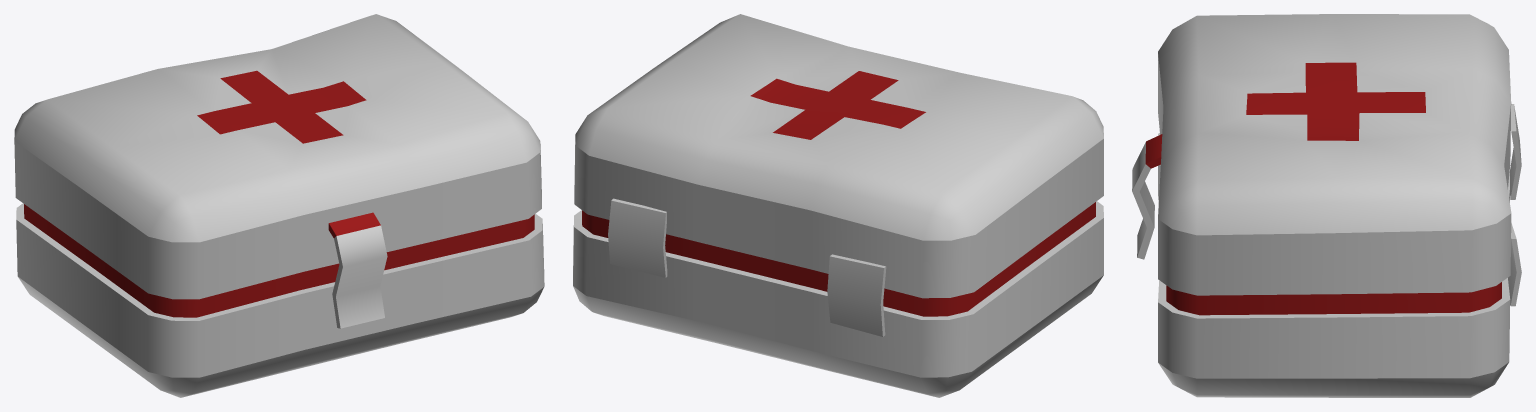
Rendered from First Aid.FBX.
3 views of the same model, side by side, from view 1: azimuth 30°, elevation 25°; view 2: azimuth 150°, elevation 25°; view 3: azimuth 270°, elevation 25° (orthographic). The views are drawn at different scales.
Parts seen in each view (by area): view 1: Box001; view 2: Box001; view 3: Box001.
Part boxes in pixels (left/top/right/bottom): Box001: left=14, top=14, right=544, bottom=397; Box001: left=573, top=14, right=1103, bottom=397; Box001: left=1132, top=14, right=1521, bottom=397.
Size of the model in its own units: 20.58 by 10.24 by 16.64.
